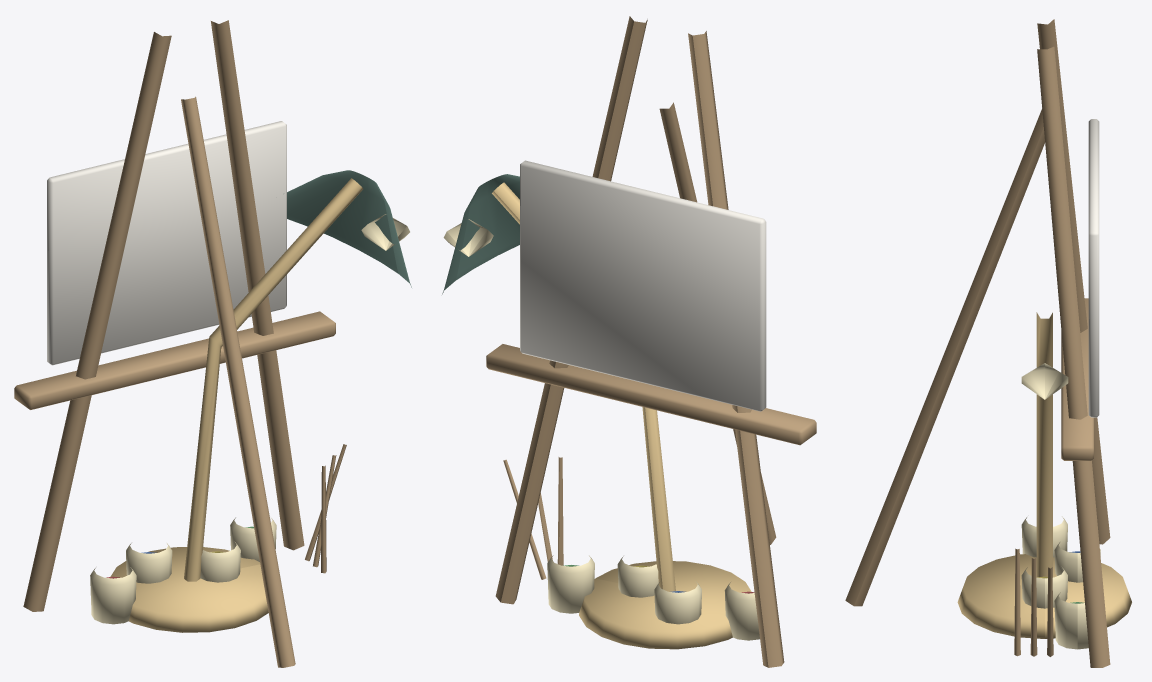
The model's file is adventure_atelier.glb.
3 renders of one model, left to right at view 1: azimuth 30°, elevation 25°; view 2: azimuth 150°, elevation 25°; view 3: azimuth 270°, elevation 25°, orthographic. The views are drawn at different scales.
Parts seen in each view (by area): view 1: easel, atelier_lamp, paint_jars; view 2: easel, atelier_lamp, paint_jars; view 3: easel, atelier_lamp, paint_jars.
Part boxes in pixels (x1,y1,x2,y2): easel: [14, 20, 335, 667]; atelier_lamp: [110, 170, 411, 632]; paint_jars: [90, 444, 346, 624]; easel: [486, 16, 816, 667]; atelier_lamp: [442, 174, 751, 649]; paint_jars: [503, 457, 759, 640]; easel: [845, 19, 1110, 667]; atelier_lamp: [957, 312, 1131, 638]; paint_jars: [1014, 516, 1100, 656].
Bounding box in the file's own units: 1.56 × 2.32 × 1.07.
